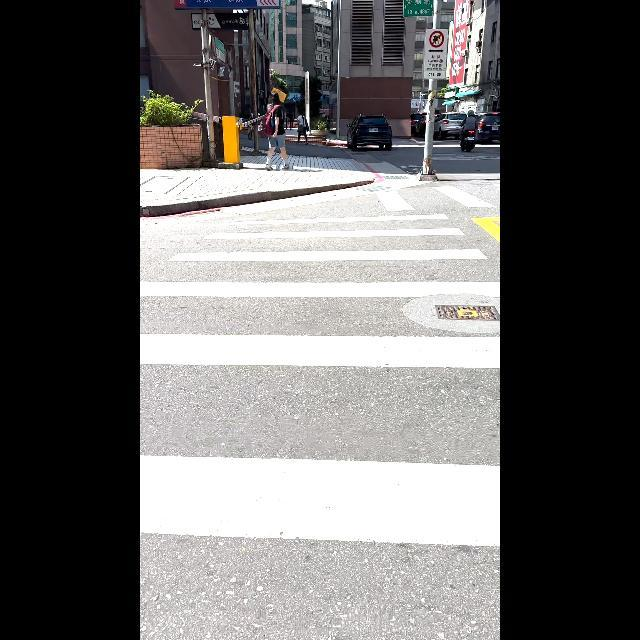sidewalk: (140, 211, 500, 546)
